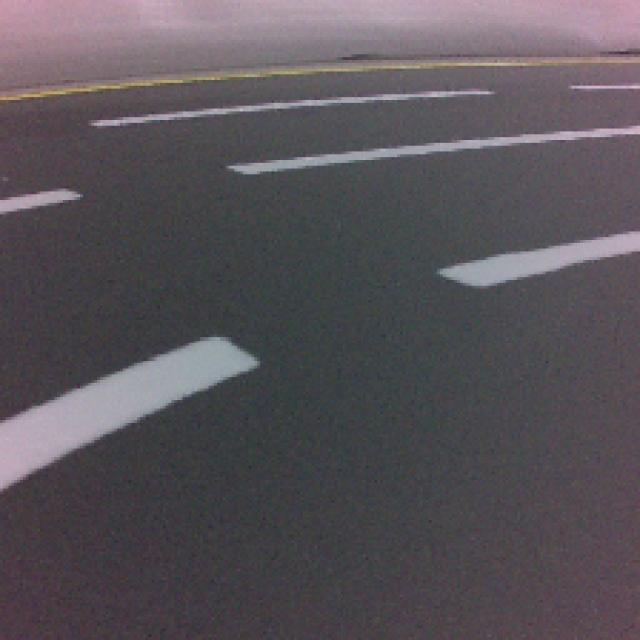Guard rail: (0, 335, 259, 491)
